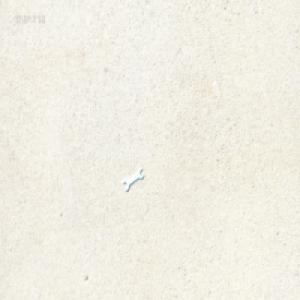Wrench: (123, 167, 144, 193)
